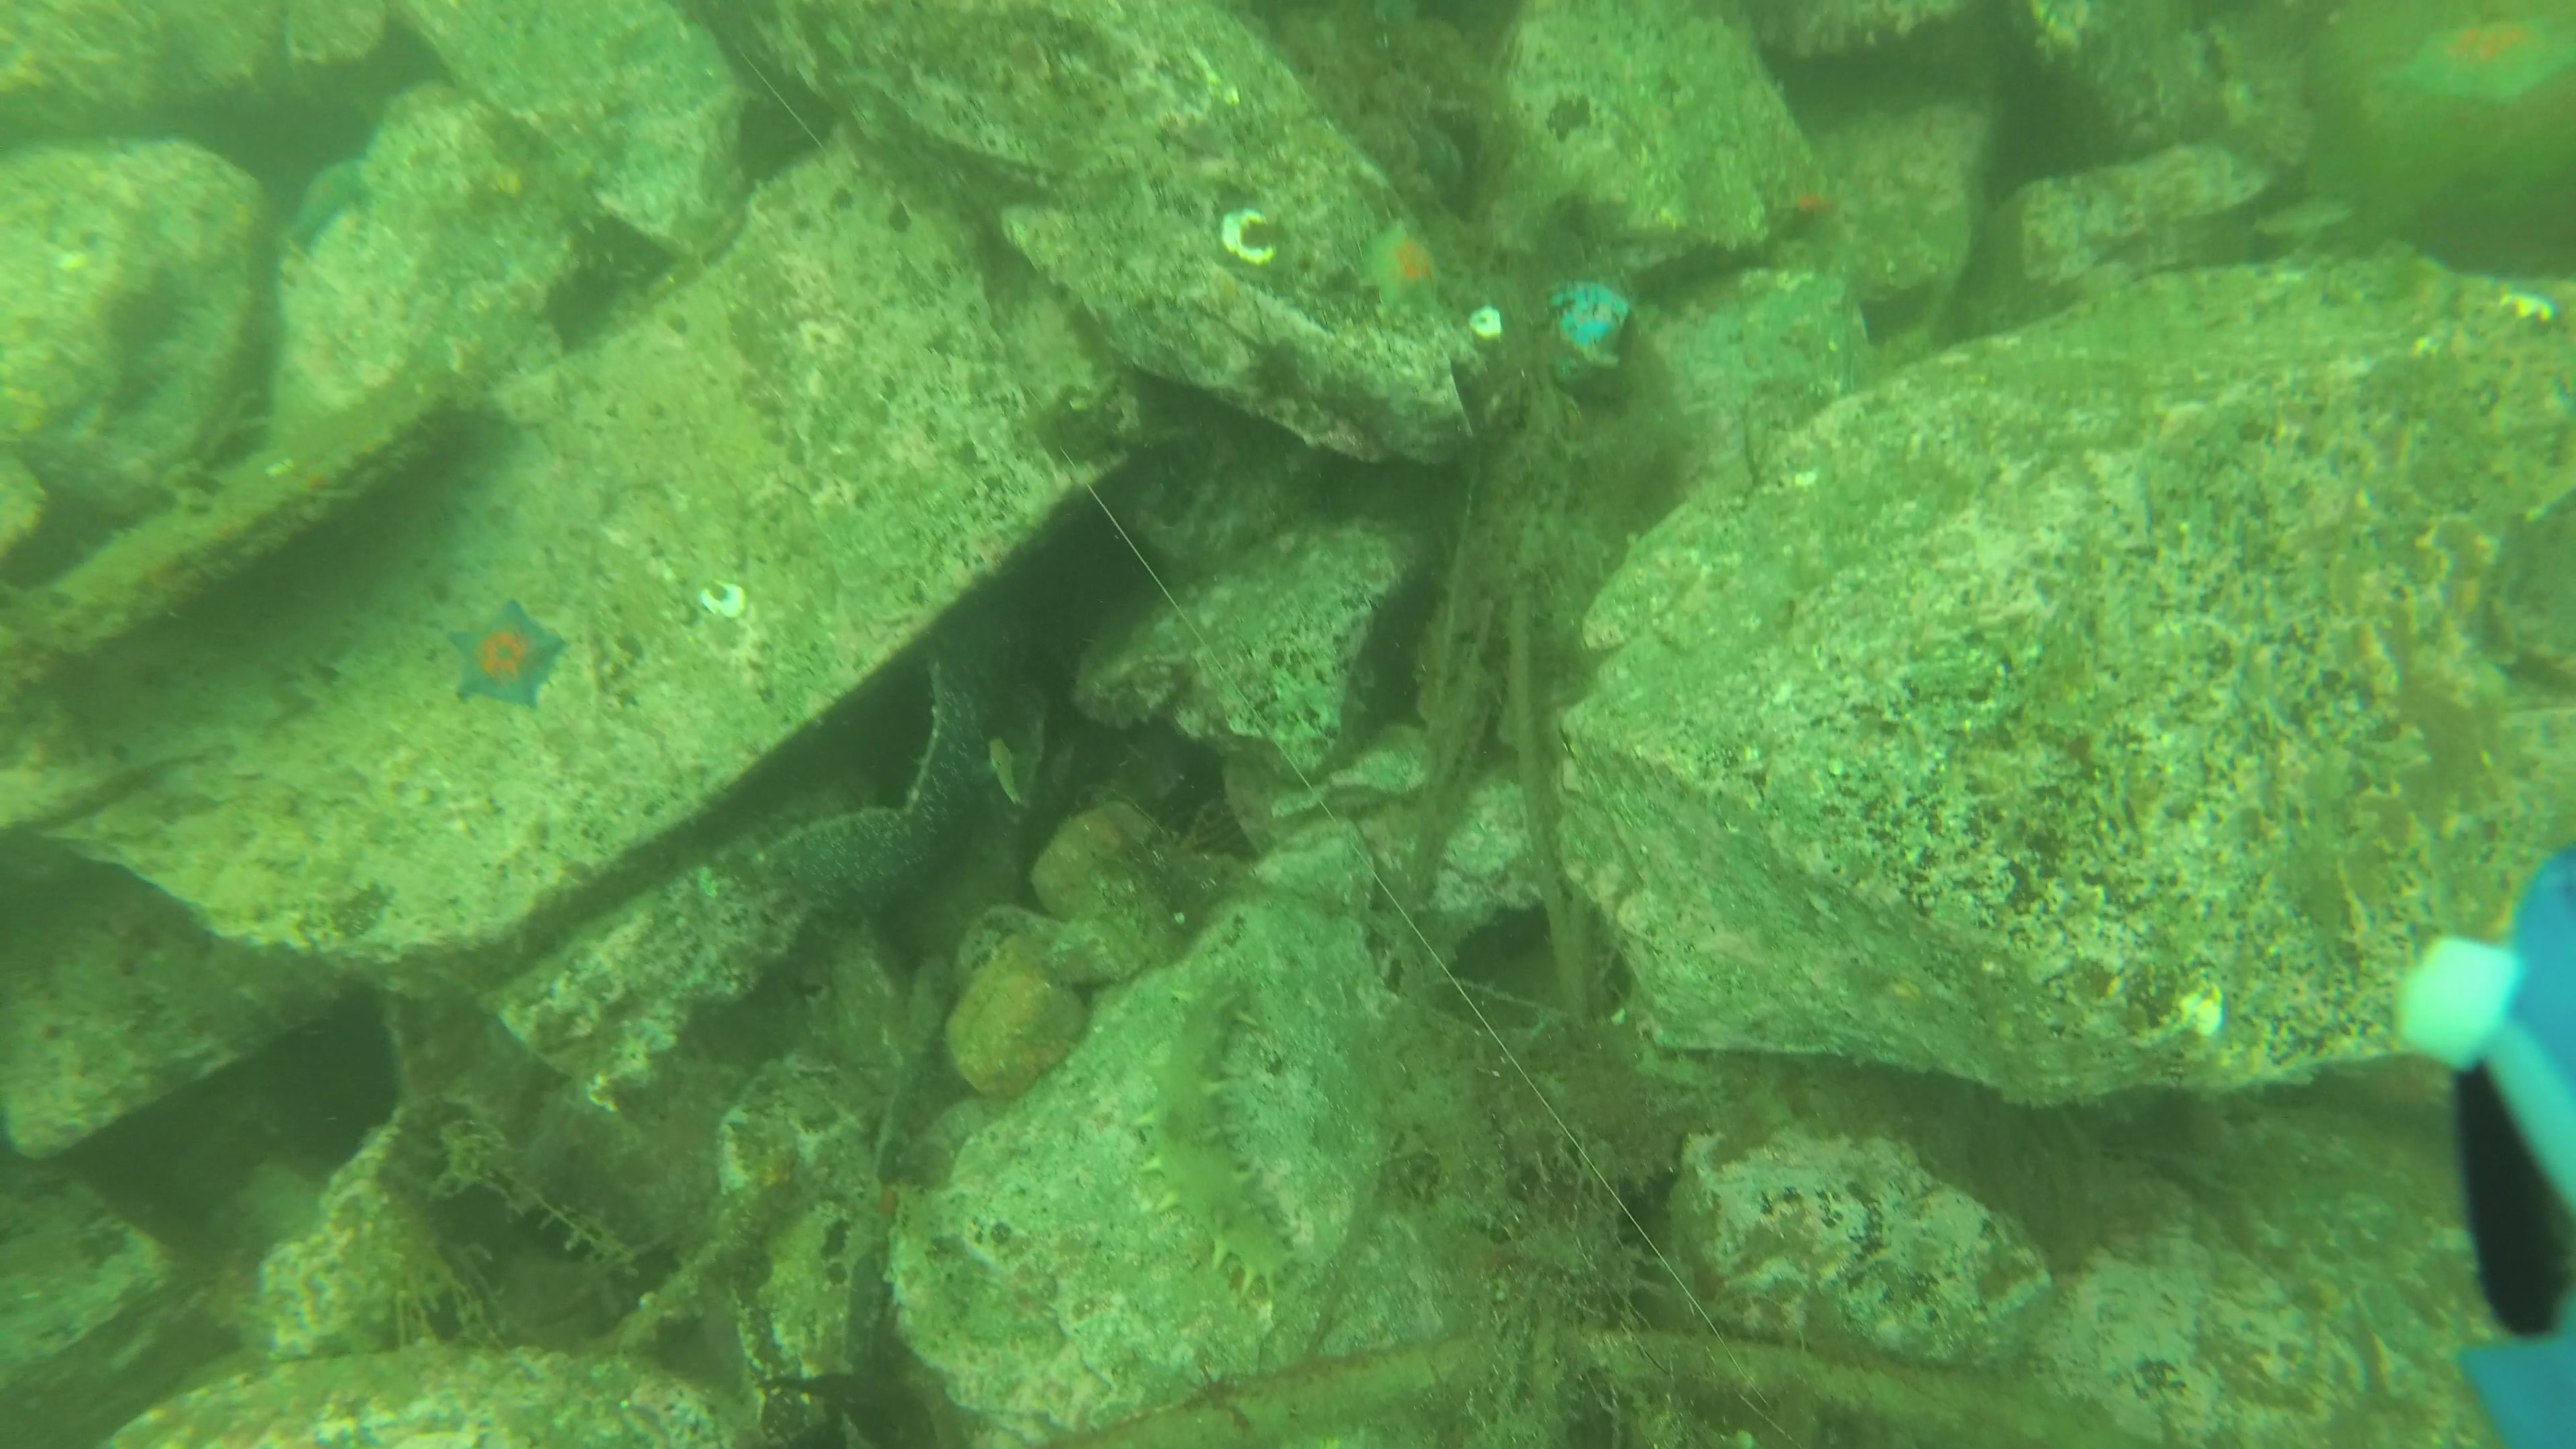holothurian: (1150, 973, 1299, 1309)
starfish: (2399, 11, 2567, 113), (435, 596, 570, 718), (1346, 214, 1453, 333)
